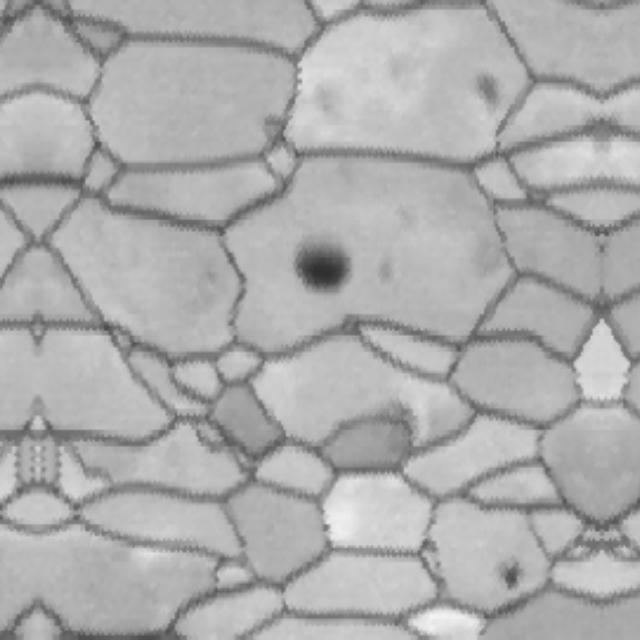good_void: (280, 227, 359, 297), (487, 554, 533, 596), (472, 68, 505, 116), (373, 252, 397, 293), (309, 516, 341, 538), (417, 531, 443, 557)
